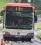bus: (14, 5, 24, 12)
